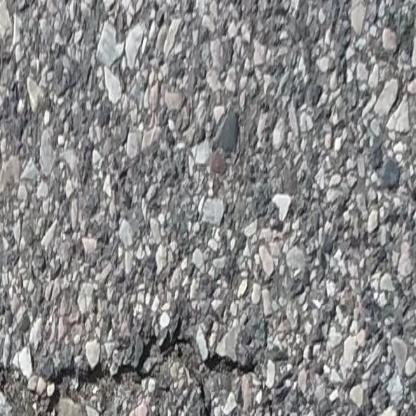Cracks: (0, 341, 252, 416)
